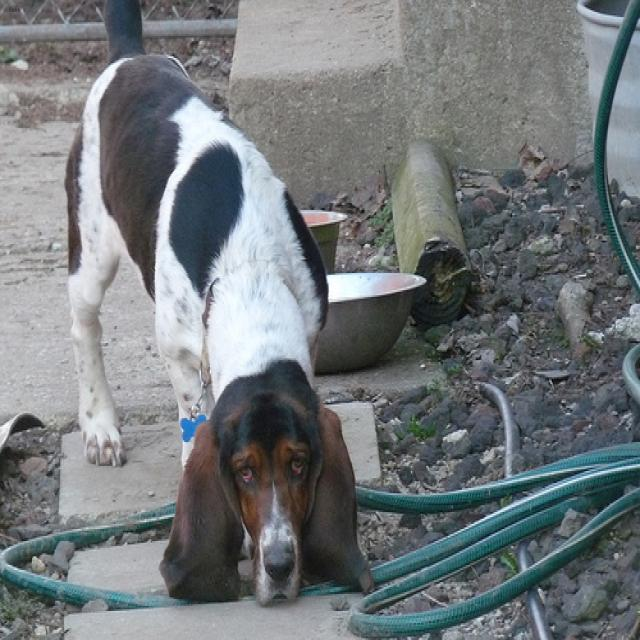dog-basset_hound: (56, 2, 379, 623)
